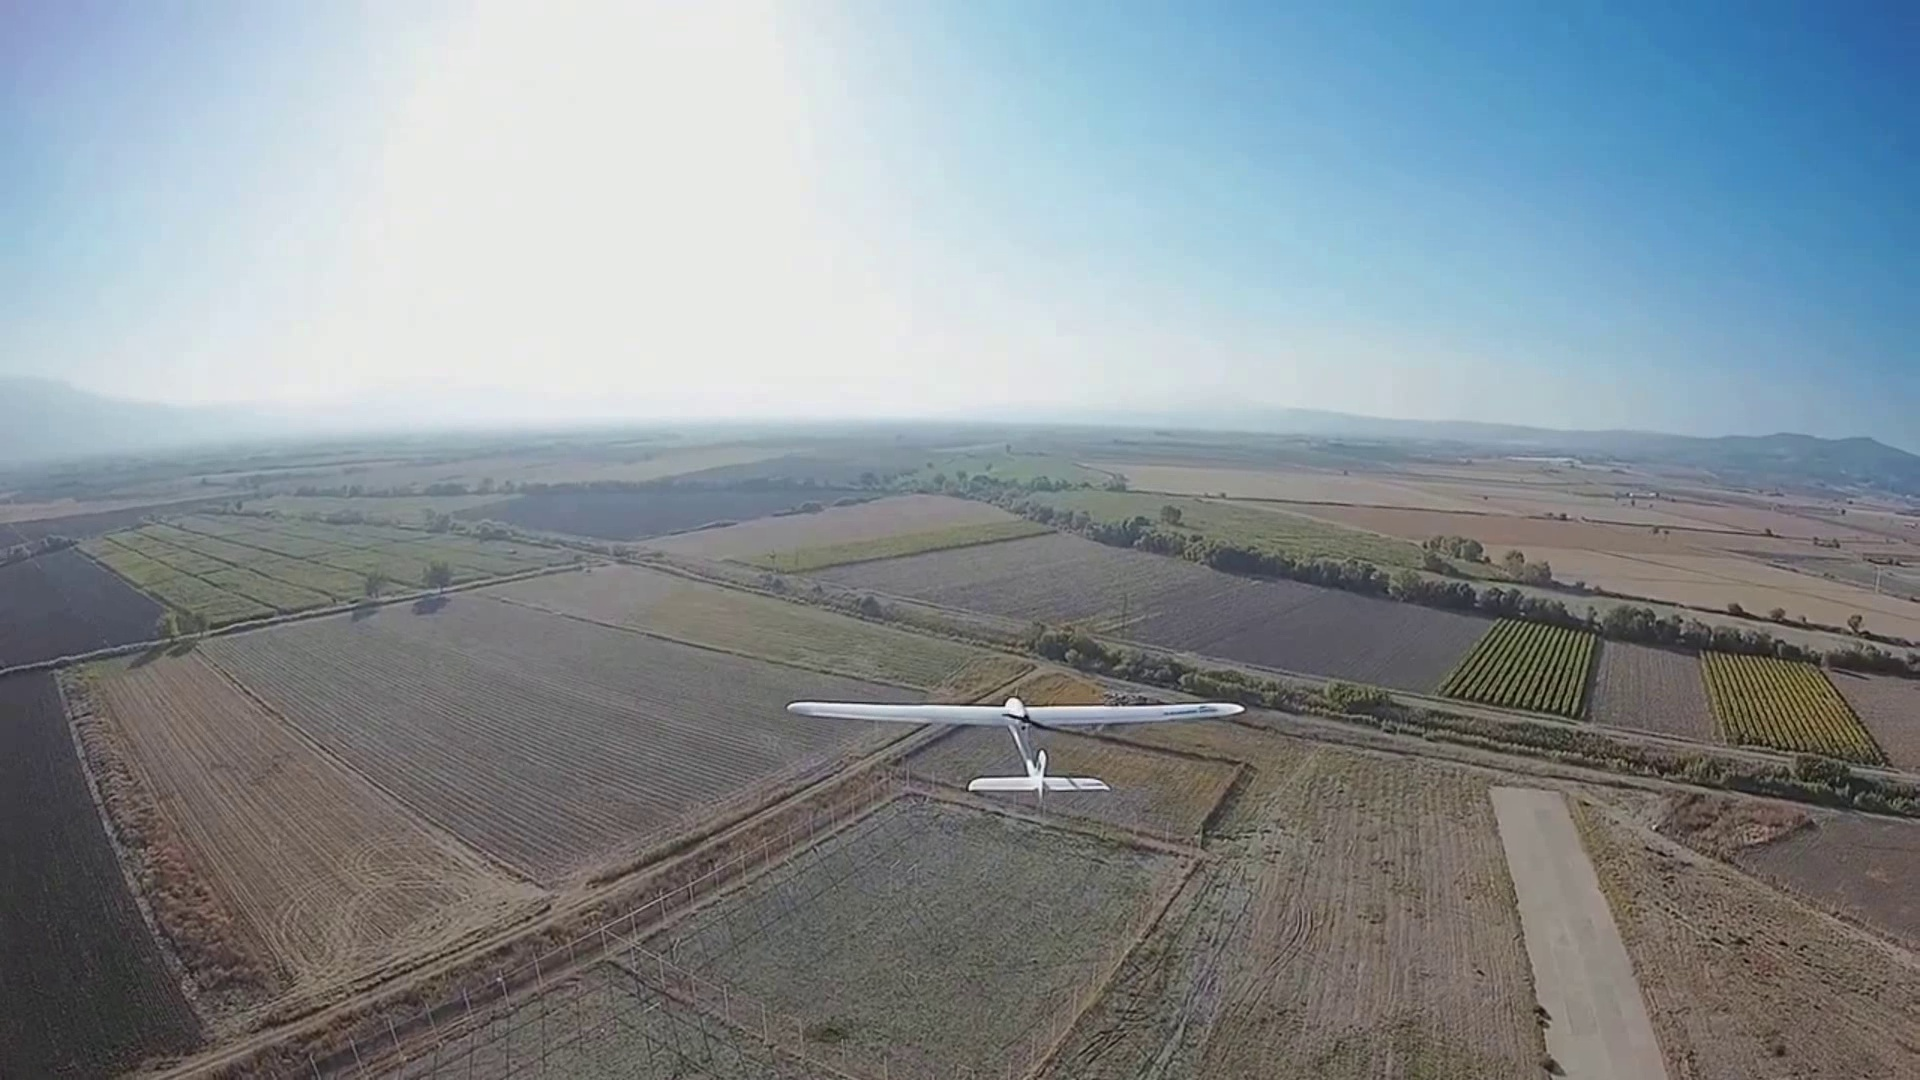airplane: (789, 682, 1247, 802)
